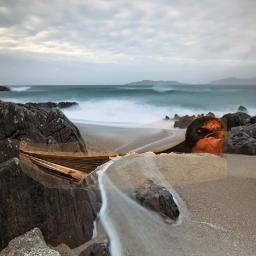Swallow: (19, 114, 227, 189)
